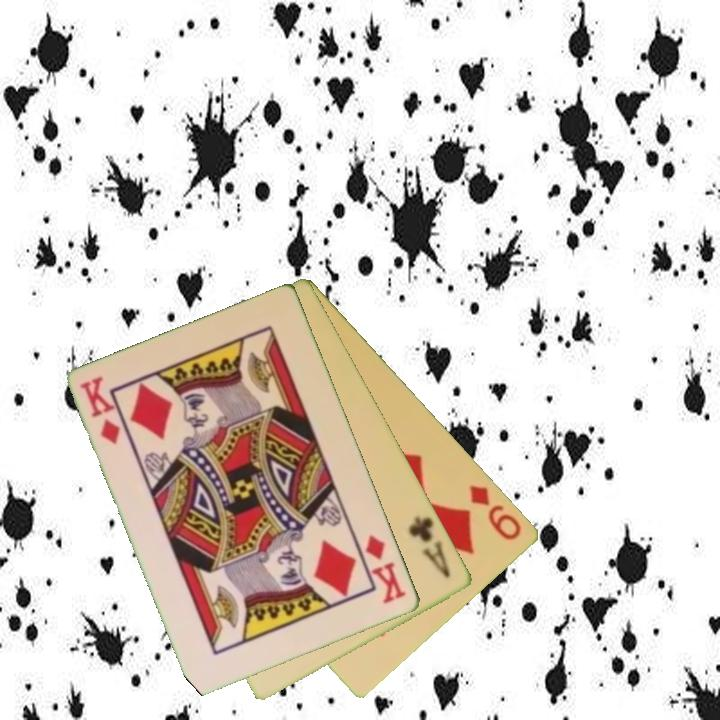9d: (466, 481, 525, 543)
Ac: (405, 513, 454, 581)
Kd: (362, 531, 410, 607), (77, 372, 124, 448)
